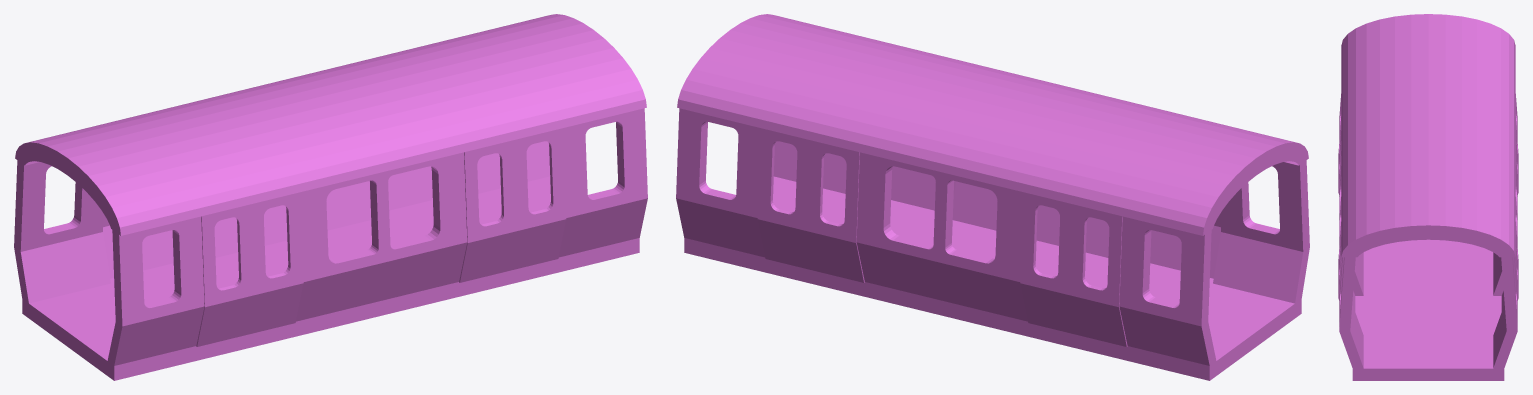
The model's file is train-00.glb.
3 renders of one model, left to right at view 1: azimuth 30°, elevation 25°; view 2: azimuth 150°, elevation 25°; view 3: azimuth 270°, elevation 25°, orthographic. The views are drawn at different scales.
Parts seen in each view (by area): view 1: Train-Complete; view 2: Train-Complete; view 3: Train-Complete.
Boxes of the visible parts, left/top/right/bottom form: Train-Complete: left=14, top=14, right=647, bottom=380; Train-Complete: left=676, top=14, right=1309, bottom=380; Train-Complete: left=1338, top=14, right=1518, bottom=380.
Size of the model in its own units: 13.89 by 4.77 by 5.
